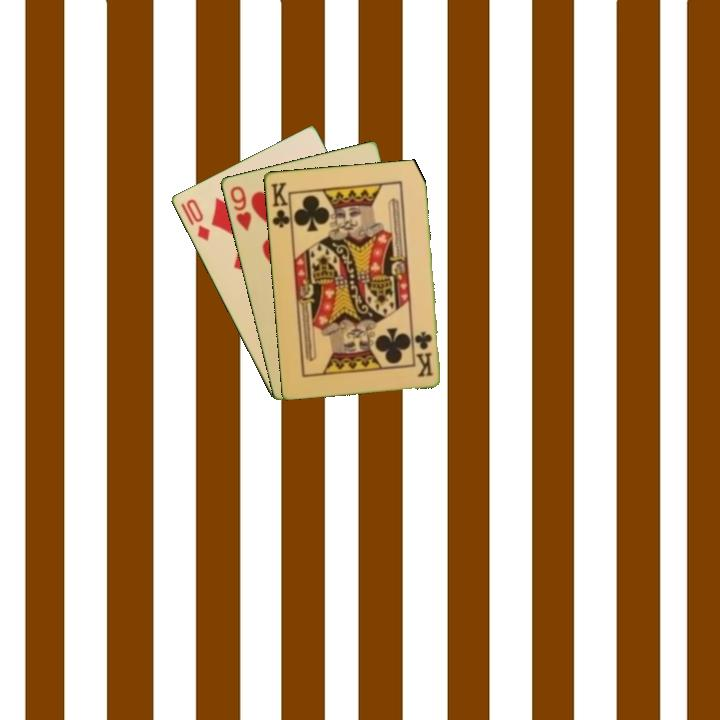10d: (182, 195, 213, 244)
9h: (226, 182, 254, 234)
Kc: (267, 178, 294, 232), (412, 328, 436, 379)
